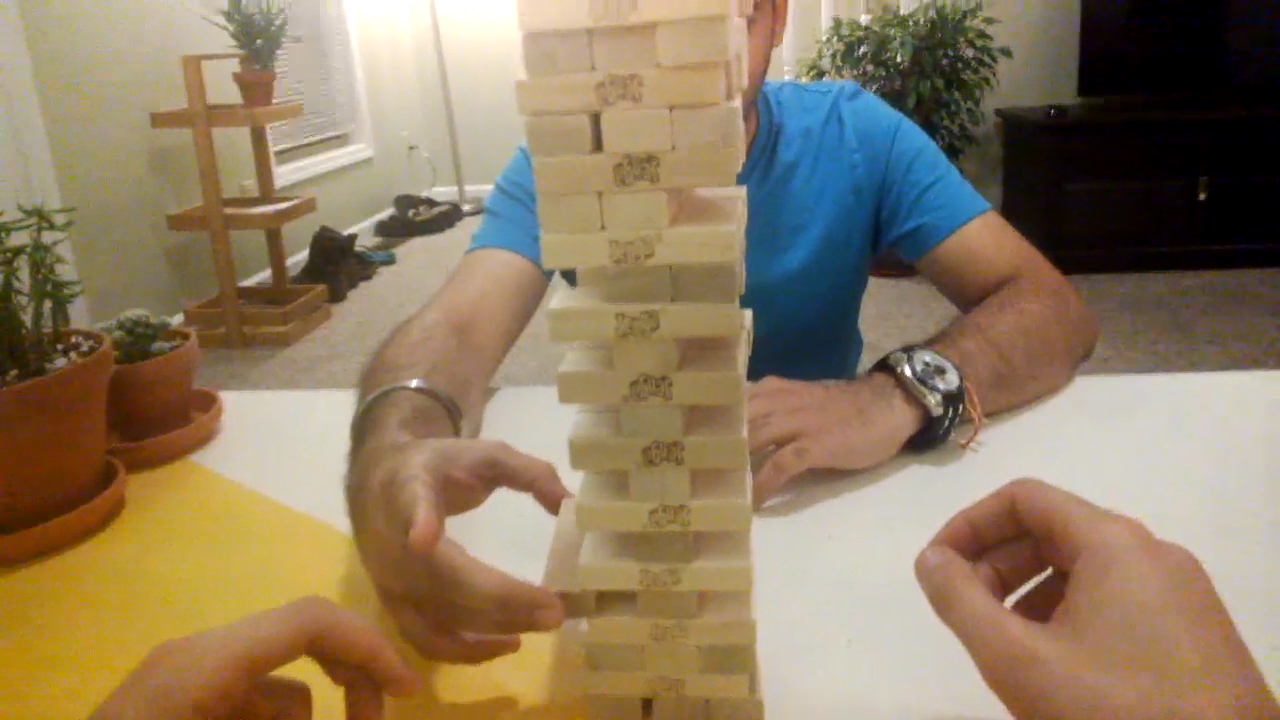hand: (924, 482, 1277, 715), (353, 436, 566, 659), (85, 597, 413, 717), (747, 373, 910, 503)
